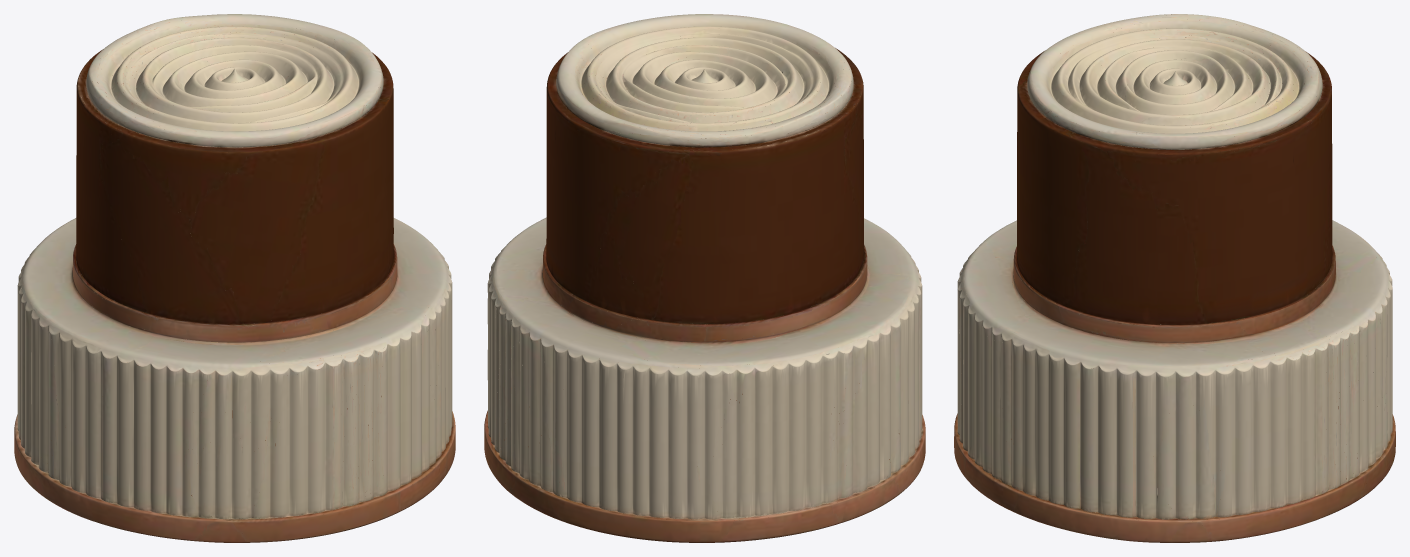
The model's file is cake-06-two-tier-cocoa.glb.
The picture shows the model from 3 angles, left to right: view 1: azimuth 30°, elevation 25°; view 2: azimuth 150°, elevation 25°; view 3: azimuth 270°, elevation 25°; orthographic projection.
Parts seen in each view (by area): view 1: cake-06; view 2: cake-06; view 3: cake-06.
Boxes of the visible parts, bbox=[...] form: cake-06: bbox=[14, 14, 455, 542]; cake-06: bbox=[484, 14, 925, 542]; cake-06: bbox=[954, 14, 1395, 542].
Bounding box in the file's own units: 2 × 1.9 × 2.
Materials: 1 (1 with a texture image).
